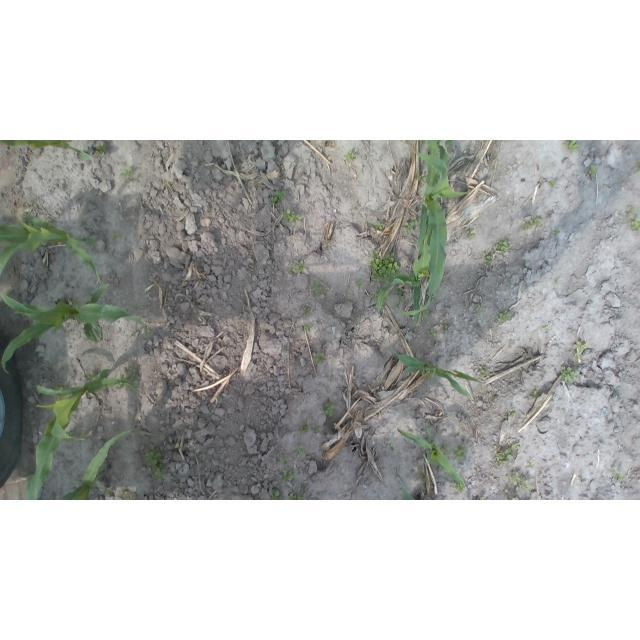Maize: (23, 368, 138, 500), (0, 283, 150, 374), (402, 140, 468, 314), (0, 217, 100, 284), (377, 213, 431, 325), (58, 428, 132, 500), (390, 345, 483, 399), (397, 425, 467, 488), (400, 484, 424, 500)
Weeds: (368, 249, 400, 285), (144, 447, 167, 477), (118, 369, 140, 390), (82, 321, 102, 342), (509, 472, 529, 493), (561, 366, 580, 384), (283, 208, 302, 225), (496, 449, 513, 466), (523, 216, 543, 230), (573, 342, 587, 360), (454, 445, 469, 460), (404, 217, 419, 232), (564, 140, 581, 153), (270, 191, 287, 203), (312, 281, 325, 296), (612, 467, 624, 483), (94, 142, 108, 155), (119, 168, 133, 181), (496, 240, 509, 254), (290, 260, 304, 273), (283, 468, 296, 481), (324, 404, 337, 417), (57, 298, 75, 307), (482, 252, 492, 268), (344, 150, 356, 163), (498, 312, 512, 323), (626, 206, 636, 220), (456, 481, 467, 492), (479, 366, 489, 378), (588, 165, 598, 177), (425, 291, 435, 303), (51, 382, 64, 391), (631, 217, 640, 230), (420, 309, 430, 320), (314, 353, 324, 364), (417, 173, 427, 183), (441, 444, 452, 453), (288, 494, 304, 500), (372, 222, 384, 230), (112, 231, 121, 241), (394, 287, 404, 296), (300, 425, 309, 434), (273, 489, 280, 500), (388, 441, 395, 452), (511, 443, 520, 451), (508, 408, 516, 417), (466, 230, 474, 239), (279, 457, 289, 464), (295, 446, 305, 453), (382, 295, 390, 303), (86, 373, 95, 380), (550, 179, 557, 187), (355, 281, 363, 288), (304, 323, 312, 330), (375, 289, 380, 300), (446, 140, 455, 146), (104, 491, 113, 497), (312, 426, 321, 432), (400, 299, 409, 305), (542, 325, 549, 332), (304, 310, 311, 317), (44, 220, 53, 225), (532, 391, 538, 397), (527, 461, 533, 467), (512, 496, 521, 500), (431, 331, 437, 337), (554, 229, 560, 235), (353, 204, 359, 209), (443, 327, 448, 333), (475, 308, 481, 313), (421, 140, 426, 145), (555, 280, 561, 284), (395, 305, 401, 309), (580, 478, 584, 483), (408, 140, 412, 144), (480, 497, 485, 500)
